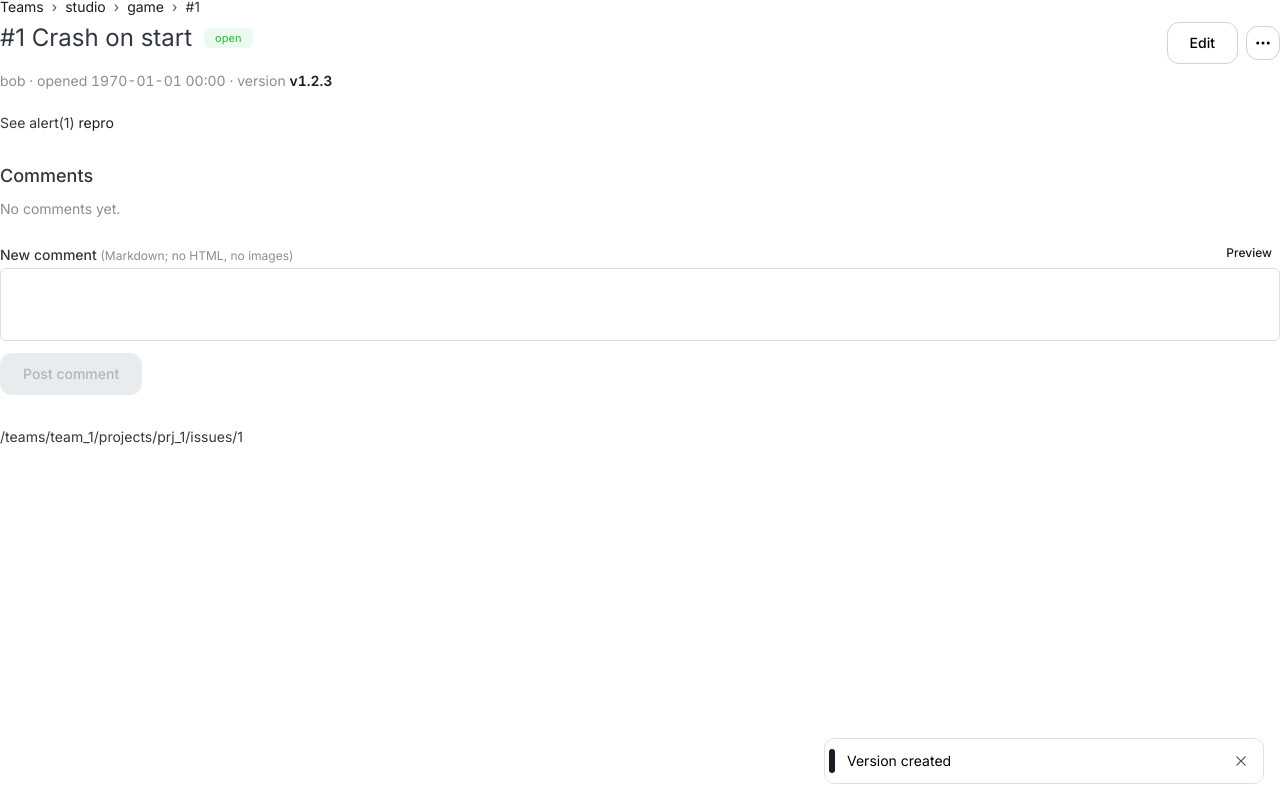
Scenario: IssuePage › renders the body sanitized and closes the issue
The width and height of the screenshot is (1280, 800).
Expected: the heading "#1 Crash on start" is shown, [0,22,192,54]
Click the button named "More actions": (1263, 43) [1246,26,1279,60]
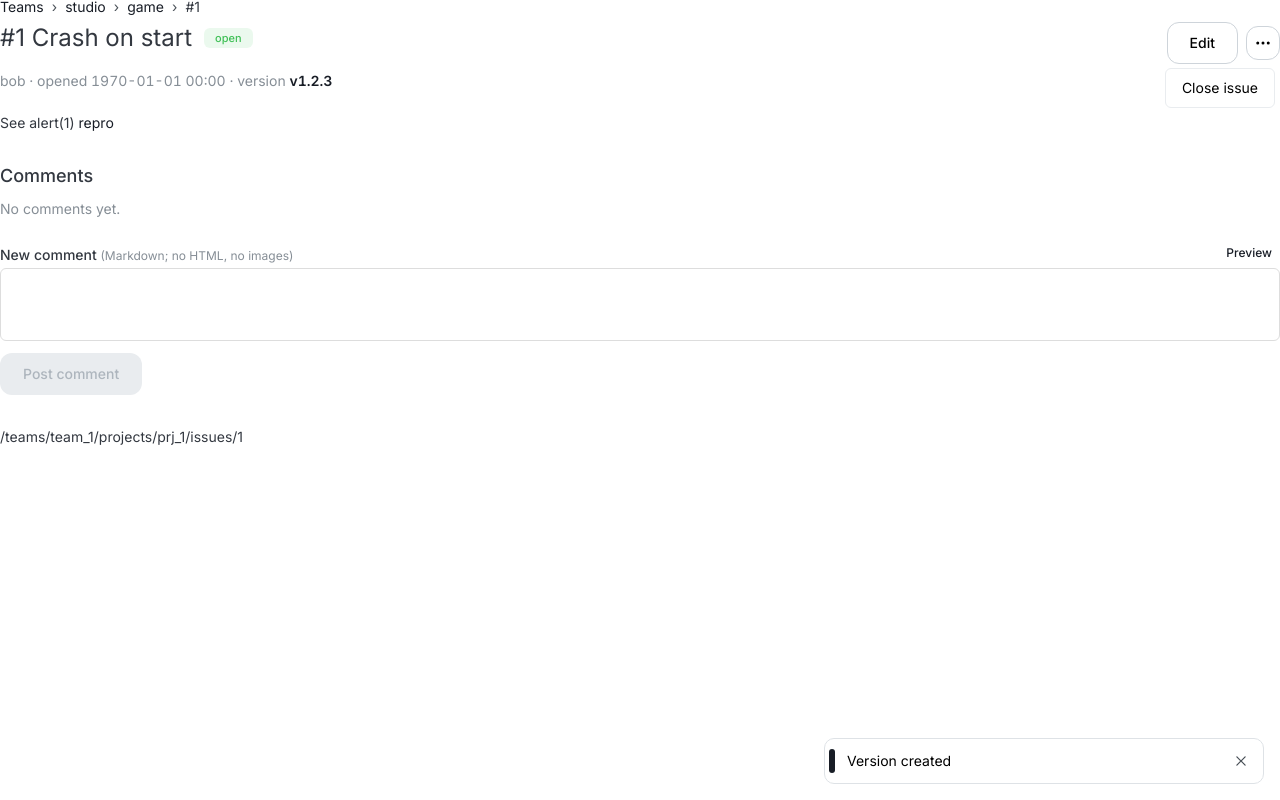
Click the menu item "Close issue": (1220, 88) [1170,73,1270,103]
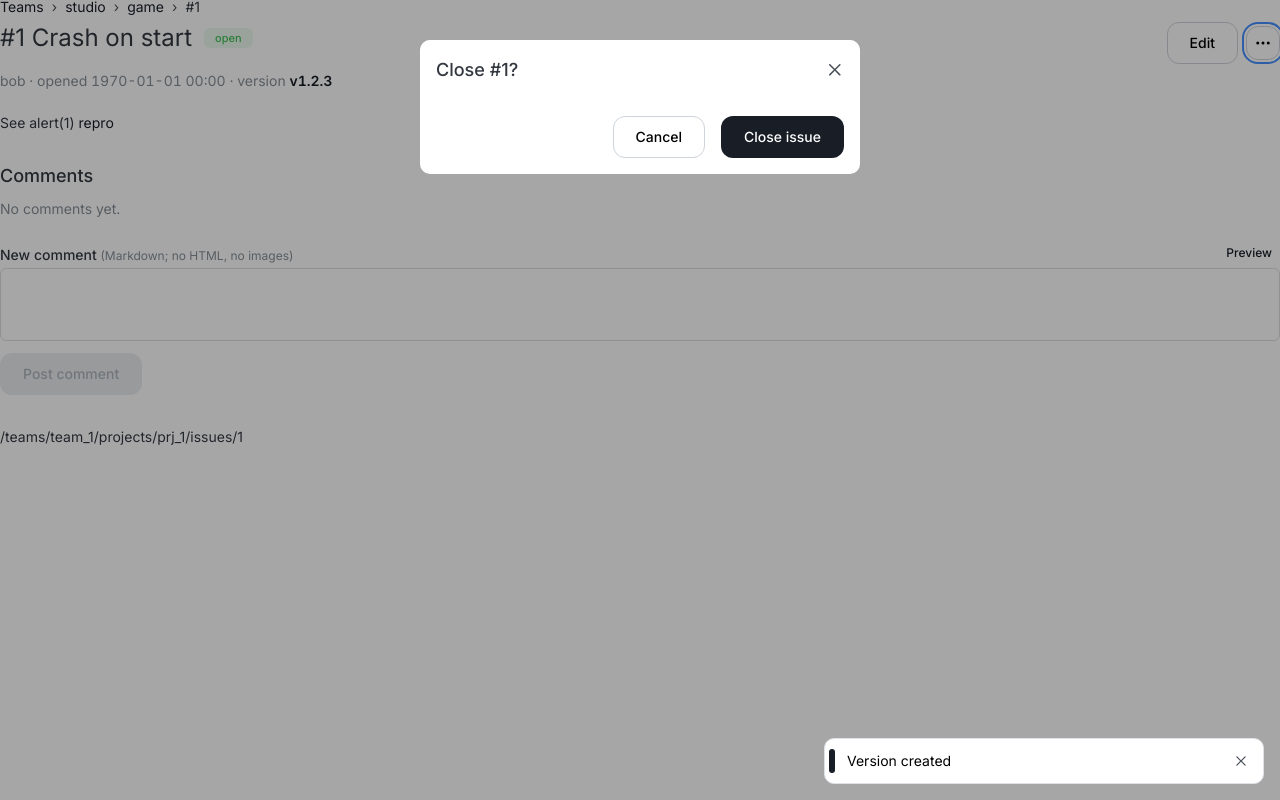
Click the button "Close issue": (782, 137) [721,116,844,158]
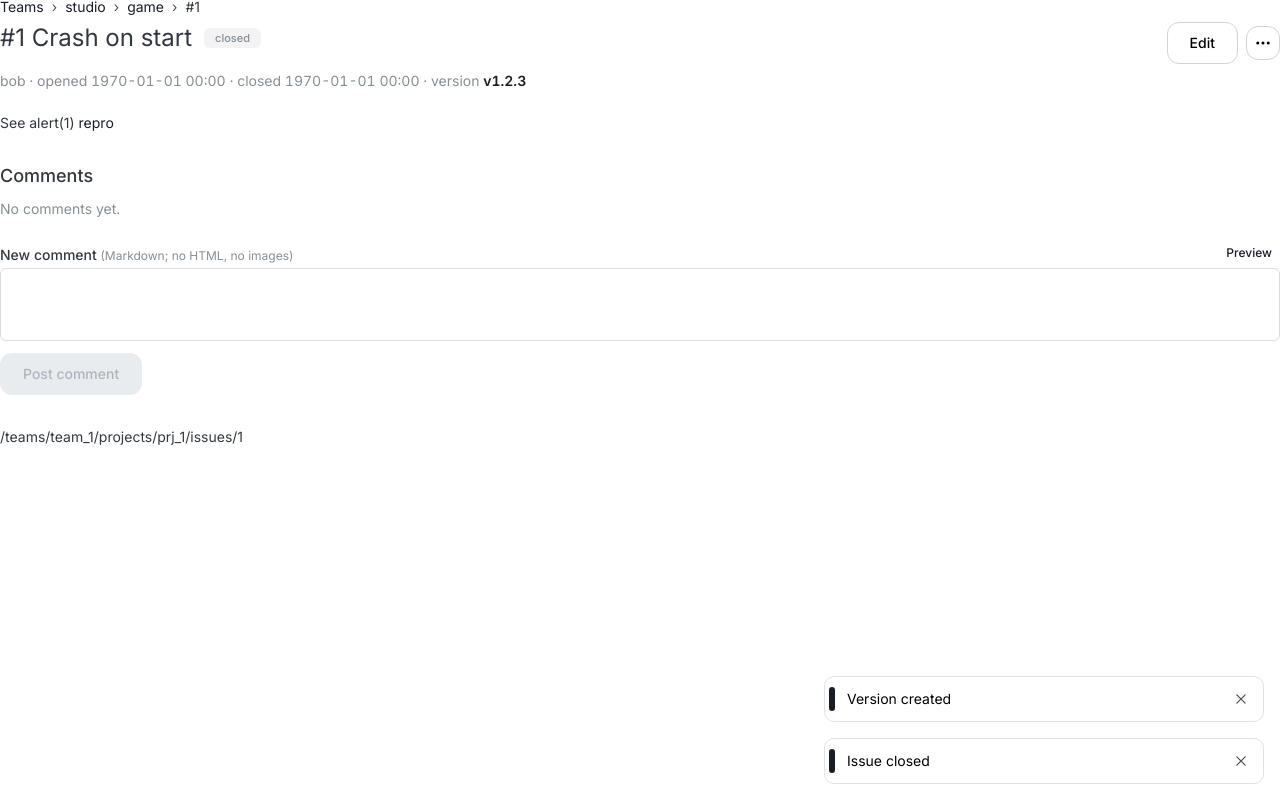
Expected: the text "closed" is shown, [215,29,250,47]
Click the button named "More actions": (1263, 43) [1246,26,1279,60]
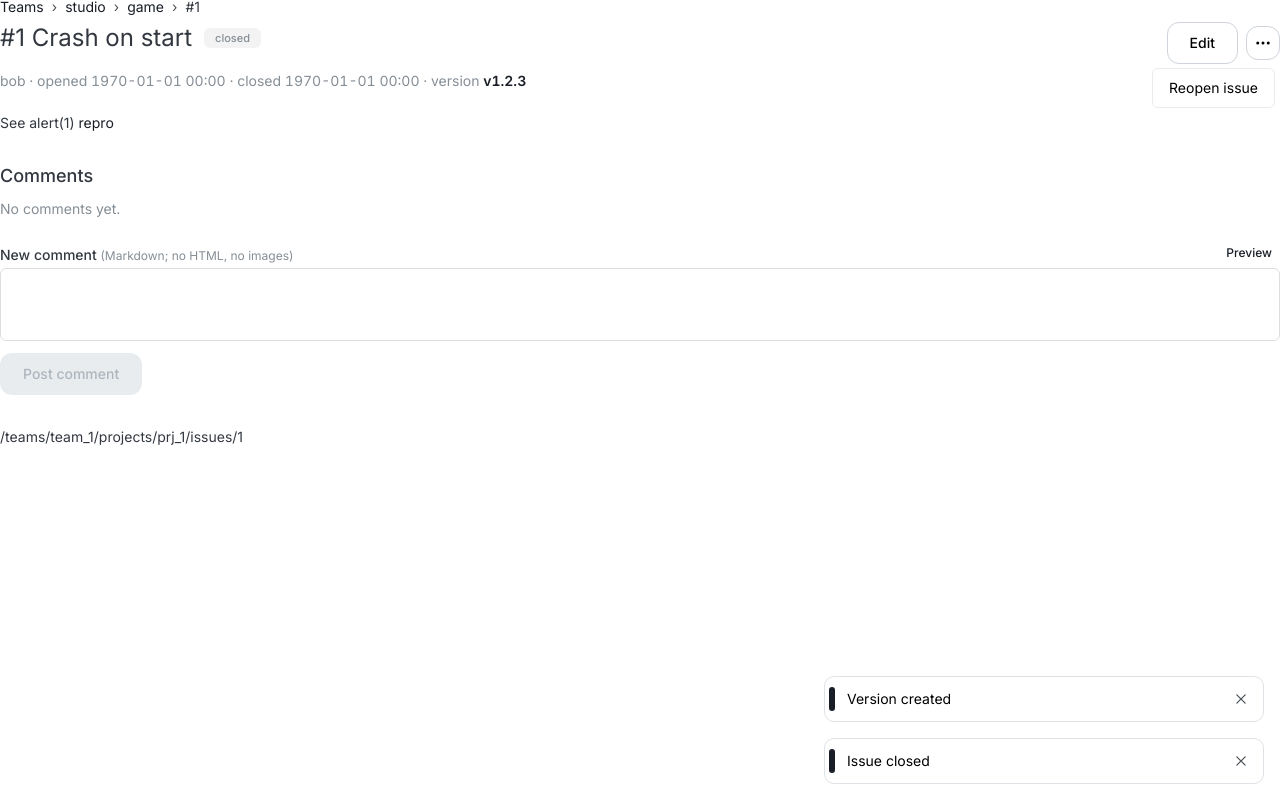
Expected: the menu item "Reopen issue" is shown, [1157,73,1270,103]
